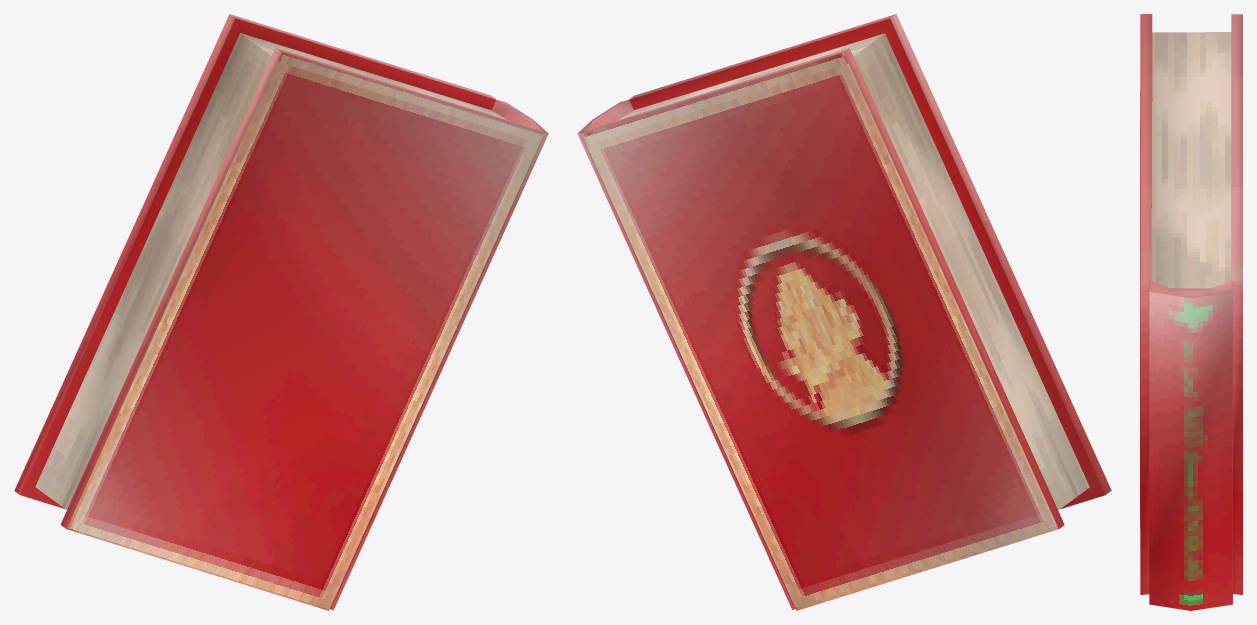
Rendered from ps2_save-icons_fushiginokunialice.glb.
3 renders of one model, left to right at view 1: azimuth 30°, elevation 25°; view 2: azimuth 150°, elevation 25°; view 3: azimuth 270°, elevation 25°, orthographic. The views are drawn at different scales.
Visible parts, largest first — view 1: icondata.0; view 2: icondata.0; view 3: icondata.0.
Part boxes in pixels (box(x1,y1,x2,y2)): icondata.0: box(14, 14, 548, 610); icondata.0: box(577, 14, 1111, 610); icondata.0: box(1140, 14, 1242, 610).
Size of the model in its own units: 2.73 by 3.06 by 0.5032.
Materials: 1 (1 with a texture image).
